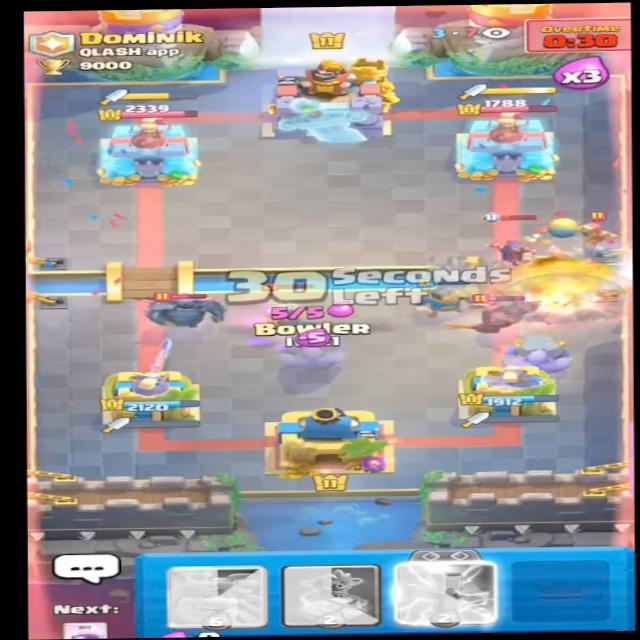evo-wizard: (472, 216, 545, 262)
pekka: (143, 282, 227, 334), (458, 288, 546, 337)
royal-ghost: (243, 284, 324, 344)
wizard: (564, 208, 630, 254)
